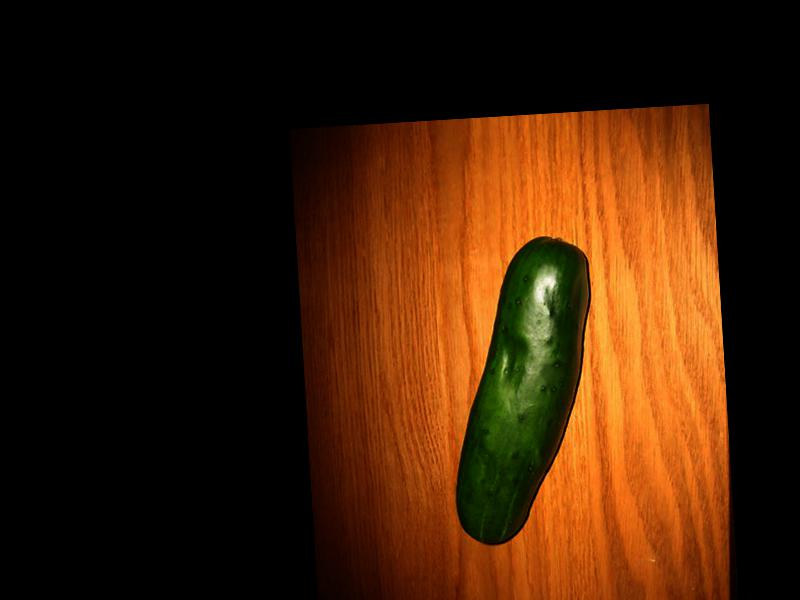Cucumber: (442, 238, 605, 547)
